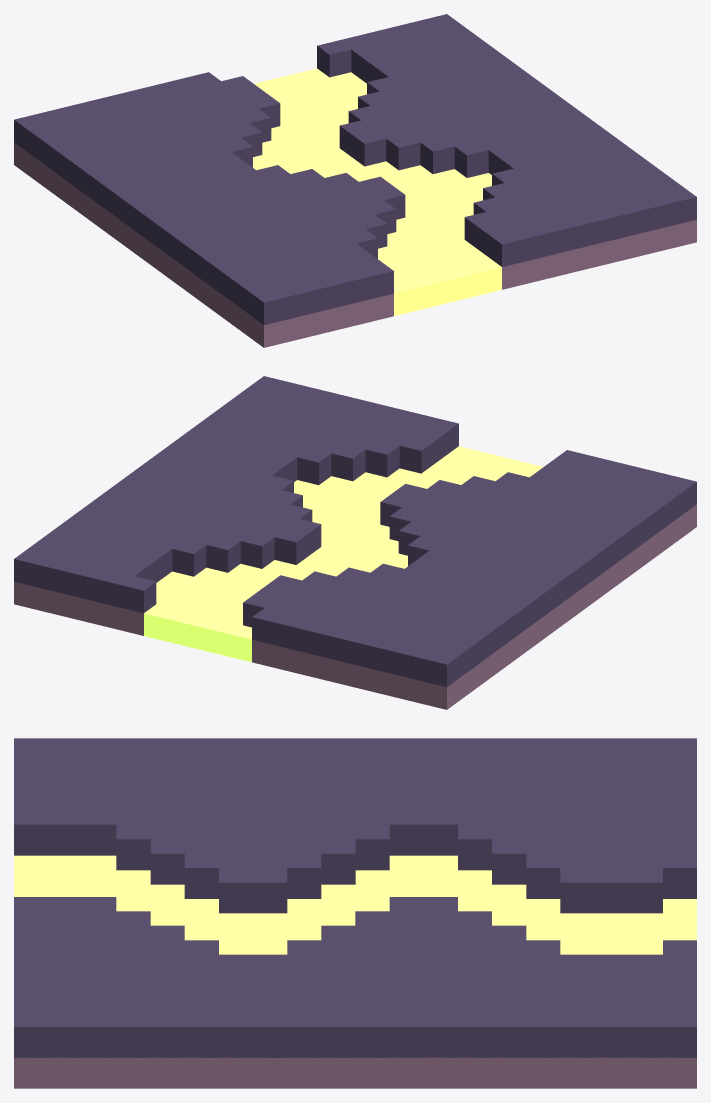
Rendered from alien-biosphere-lava-scar-tile-6091d50b__22766.glb.
3 renders of one model, top to bottom at view 1: azimuth 30°, elevation 25°; view 2: azimuth 150°, elevation 25°; view 3: azimuth 270°, elevation 25°, orthographic. The views are drawn at different scales.
Visible parts, largest first — view 1: lava-scar-tile; view 2: lava-scar-tile; view 3: lava-scar-tile.
Boxes of the visible parts, x1,y1,x2,y2 form: lava-scar-tile: (14,14,696,347); lava-scar-tile: (14,376,696,709); lava-scar-tile: (14,738,696,1088).
Size of the model in its own units: 4 by 0.4002 by 4.
